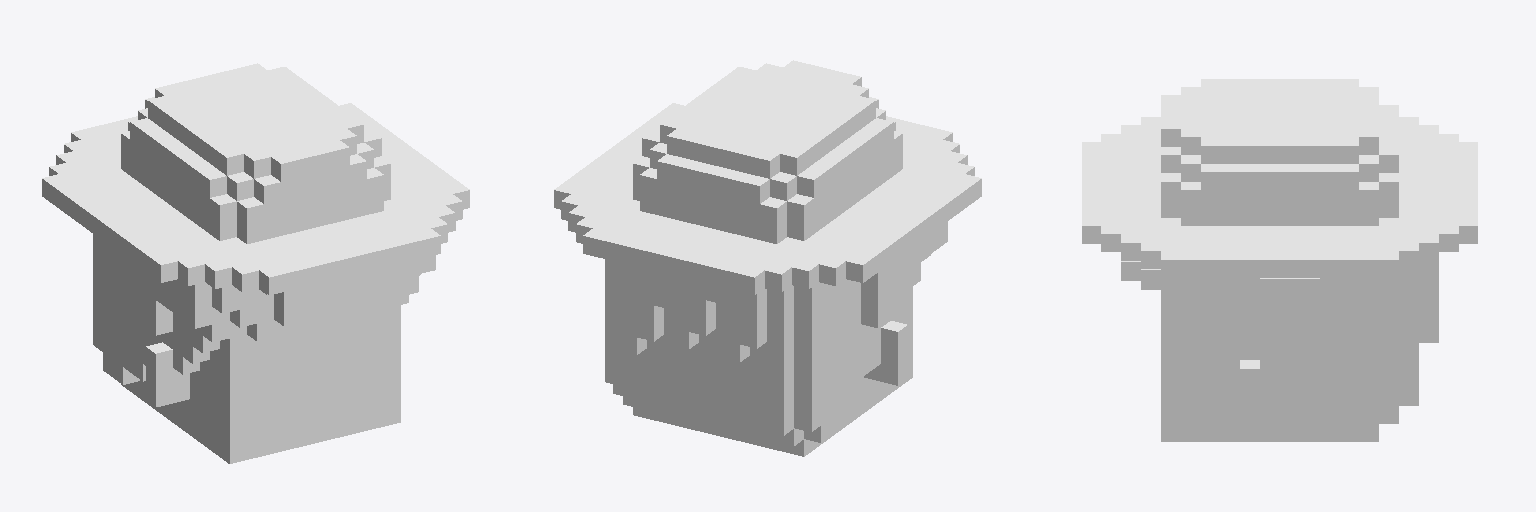
Rendered from LavaJones_Heads.obj.
3 renders of one model, left to right at view 1: azimuth 30°, elevation 25°; view 2: azimuth 150°, elevation 25°; view 3: azimuth 270°, elevation 25°, orthographic.
Parts seen in each view (by area): view 1: object 1; view 2: object 1; view 3: object 1.
Part boxes in pixels (x1,y1,x2,y2): object 1: (42, 63, 469, 463); object 1: (554, 60, 981, 456); object 1: (1082, 79, 1477, 441).
Size of the model in its own units: 1.8 by 1.6 by 2.